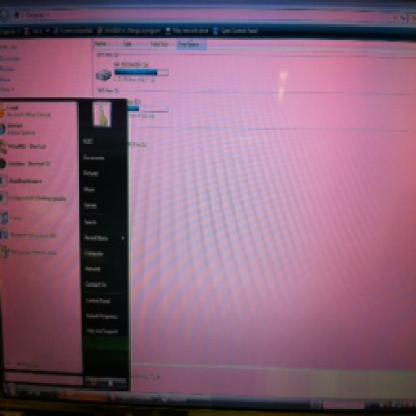fade: (0, 3, 414, 403)
spot: (262, 59, 306, 118)
